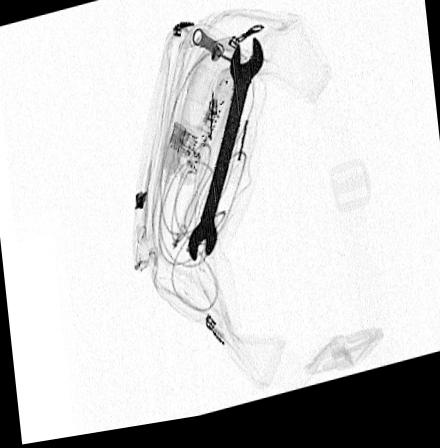Wrench: (185, 48, 265, 269)
